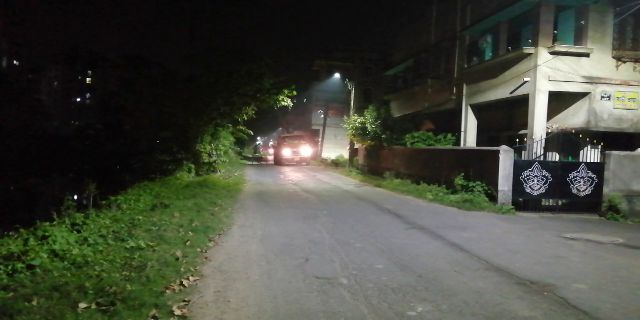Truck: (275, 131, 316, 164)
